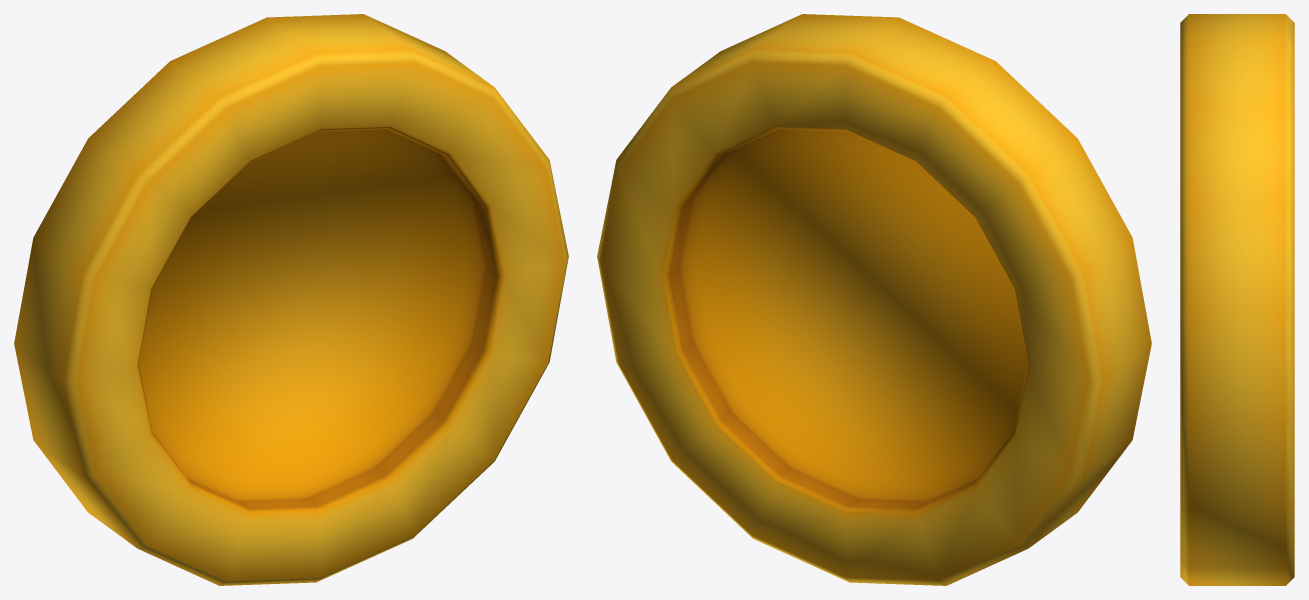
Rendered from blendertimer-coin-4196.glb.
3 views of the same model, side by side, from view 1: azimuth 30°, elevation 25°; view 2: azimuth 150°, elevation 25°; view 3: azimuth 270°, elevation 25° (orthographic).
Parts seen in each view (by area): view 1: Coin; view 2: Coin; view 3: Coin.
Part boxes in pixels (<box>): Coin: <box>14,14,568,585</box>; Coin: <box>597,14,1151,585</box>; Coin: <box>1180,14,1294,585</box>.
Size of the model in its own units: 2 by 2 by 0.4.
Materials: 1 (1 with a texture image).
